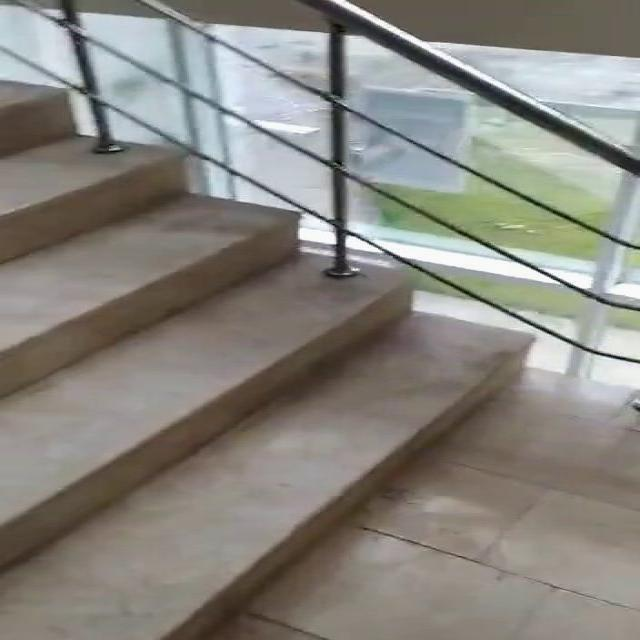stair: (1, 72, 550, 640)
